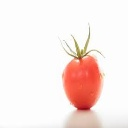tomato: (62, 55, 105, 108)
